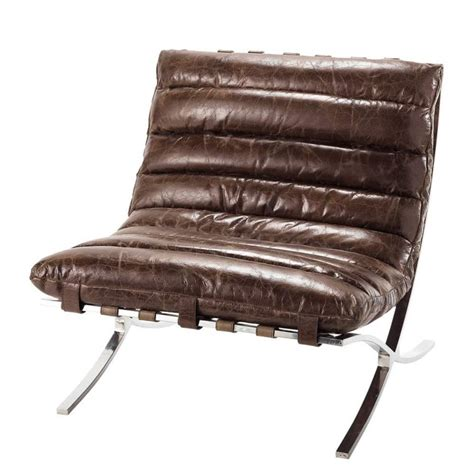cuero: (28, 47, 445, 346)
